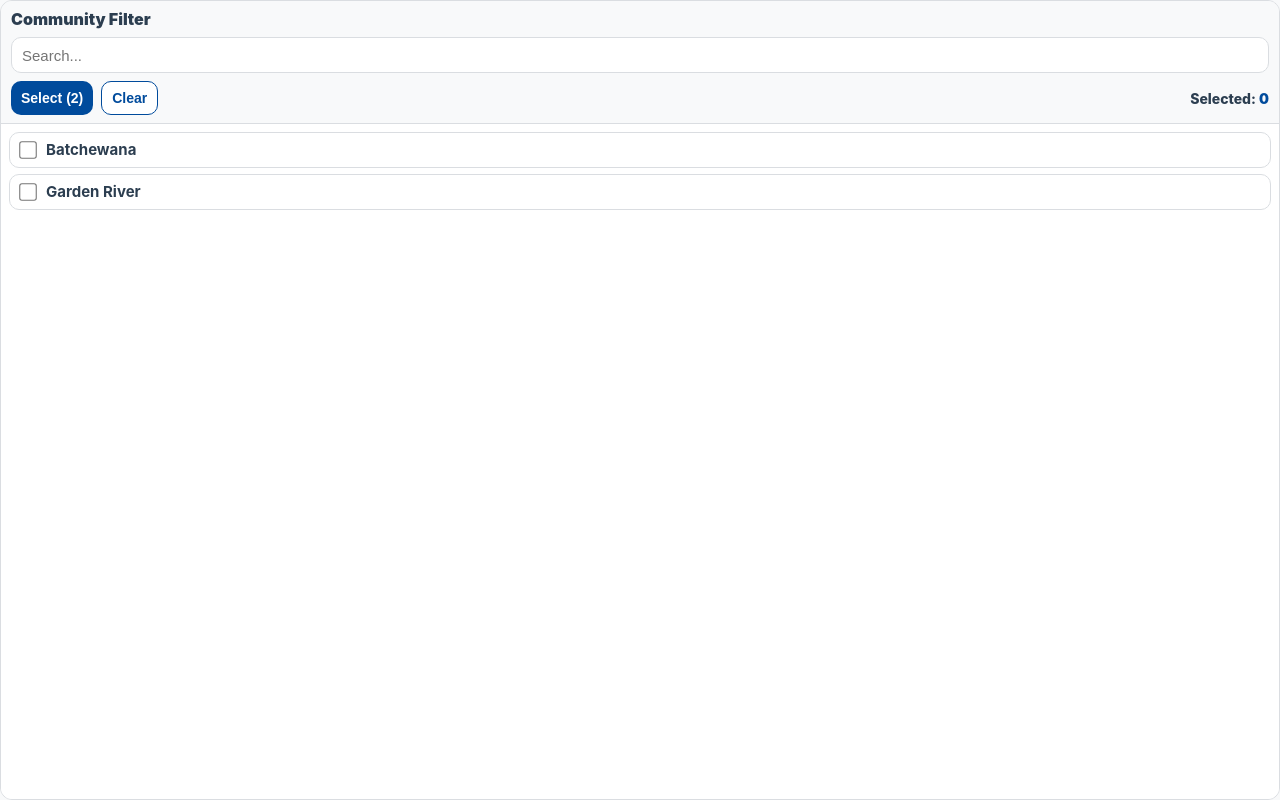
Test: CommunityFilter › clear search button resets the query and restores the full list
Type "garden" into the field named "Search communities" at (640, 55), box [11,37,1269,73]
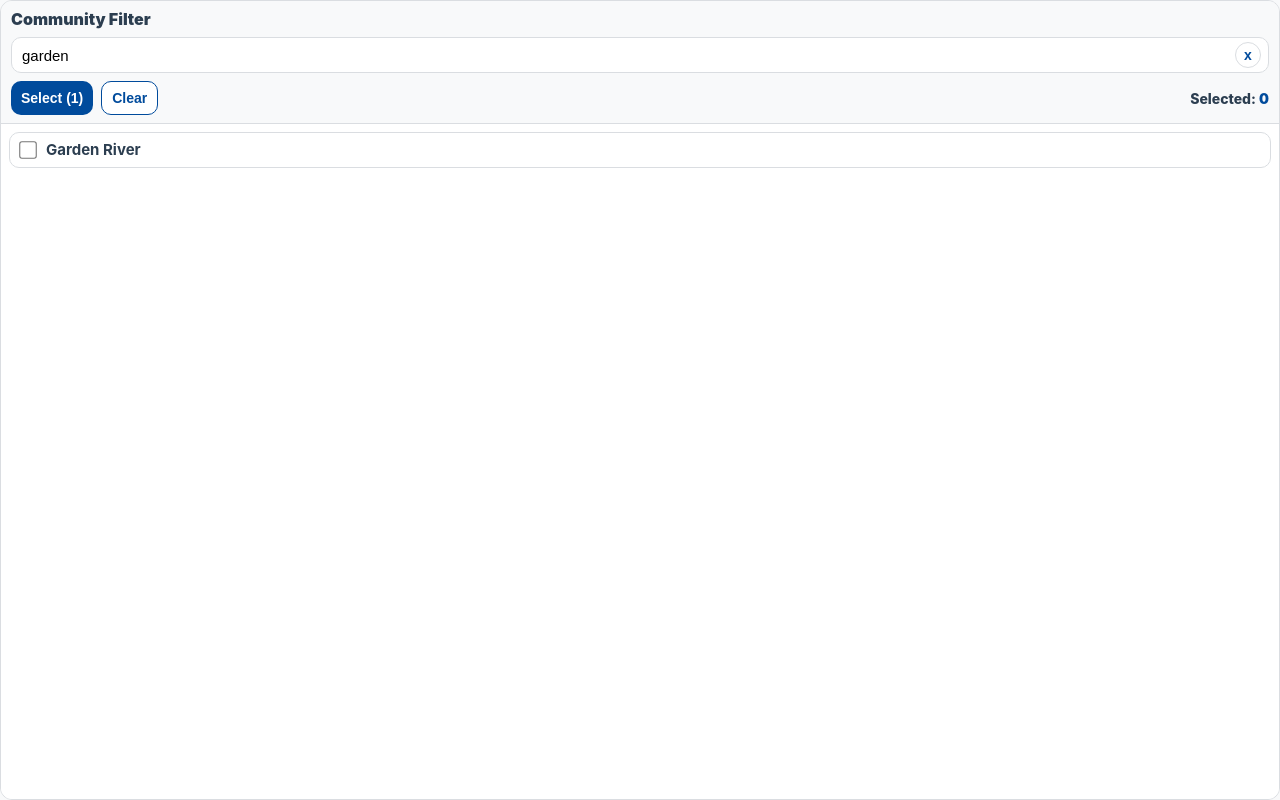
Now the button named "Clear community search" is shown
Now the option "Batchewana" is gone
Click the button named "Clear community search" at (1248, 55), box [1235,42,1261,68]
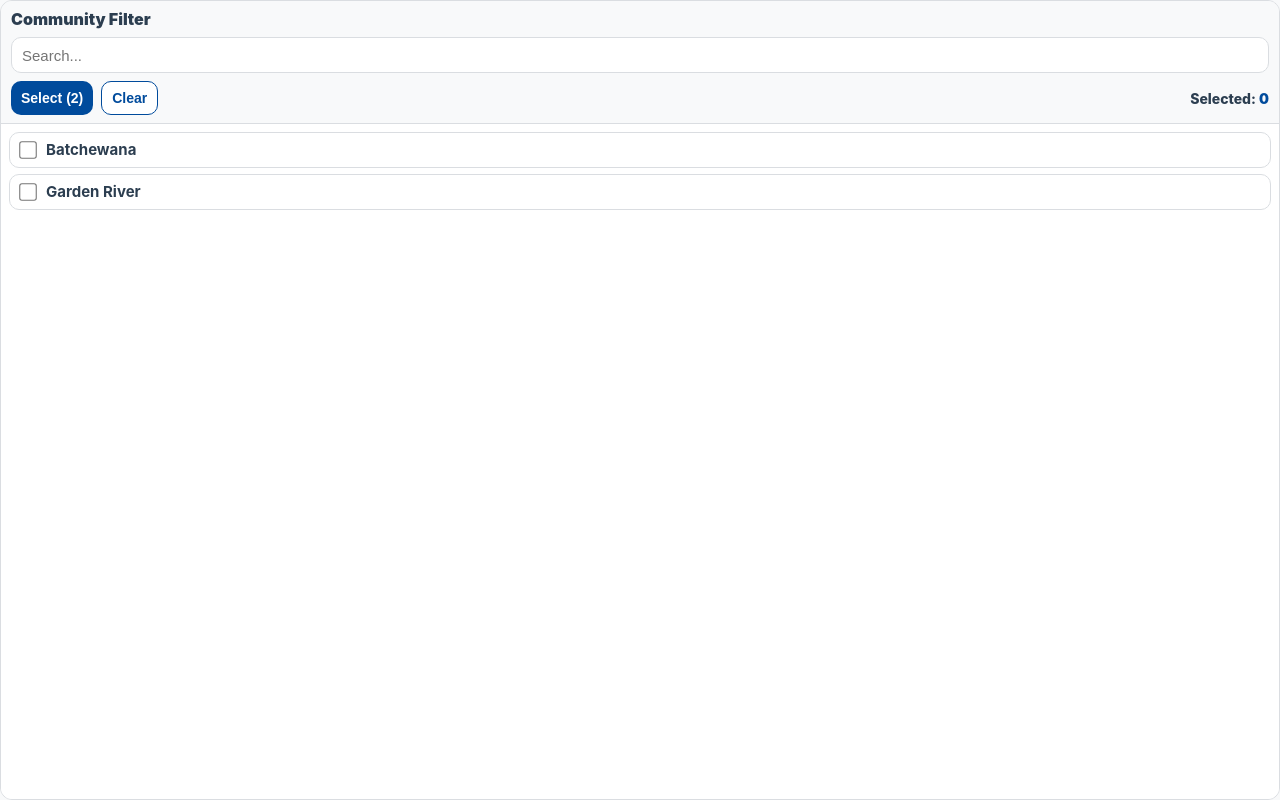
Expected: the option "Garden River" is shown, [9,174,1271,210]
Now the field named "Search communities" is empty, box [11,37,1269,73]
Now the option "Batchewana" is shown, box [9,132,1271,168]
